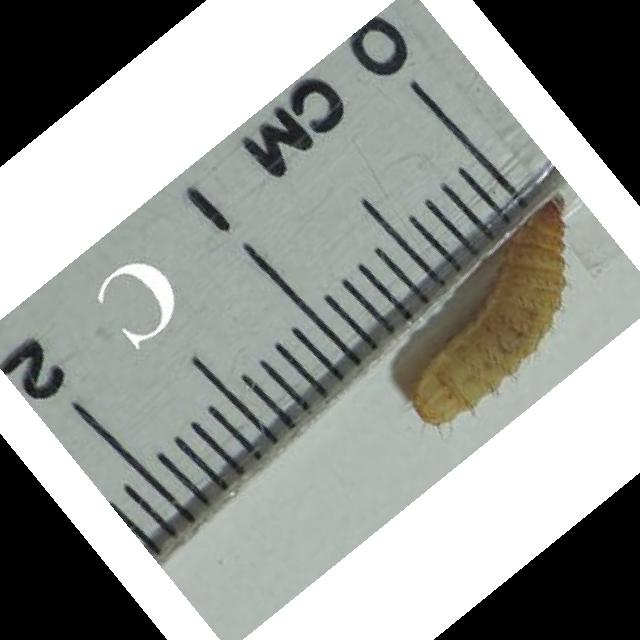Maggot: (406, 195, 579, 425)
